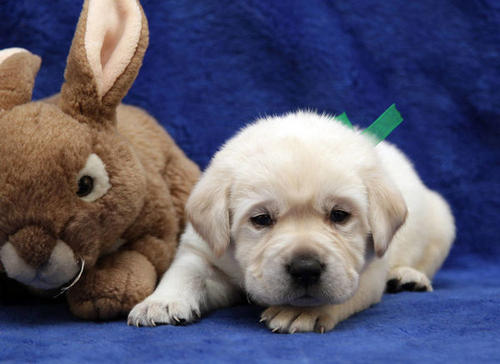dog: (224, 175, 388, 314)
